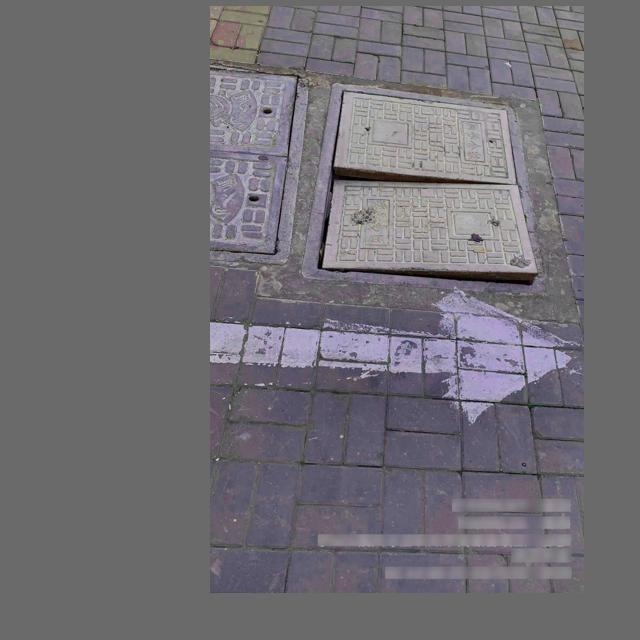good: (215, 62, 312, 266)
uncovered: (301, 81, 545, 290)
